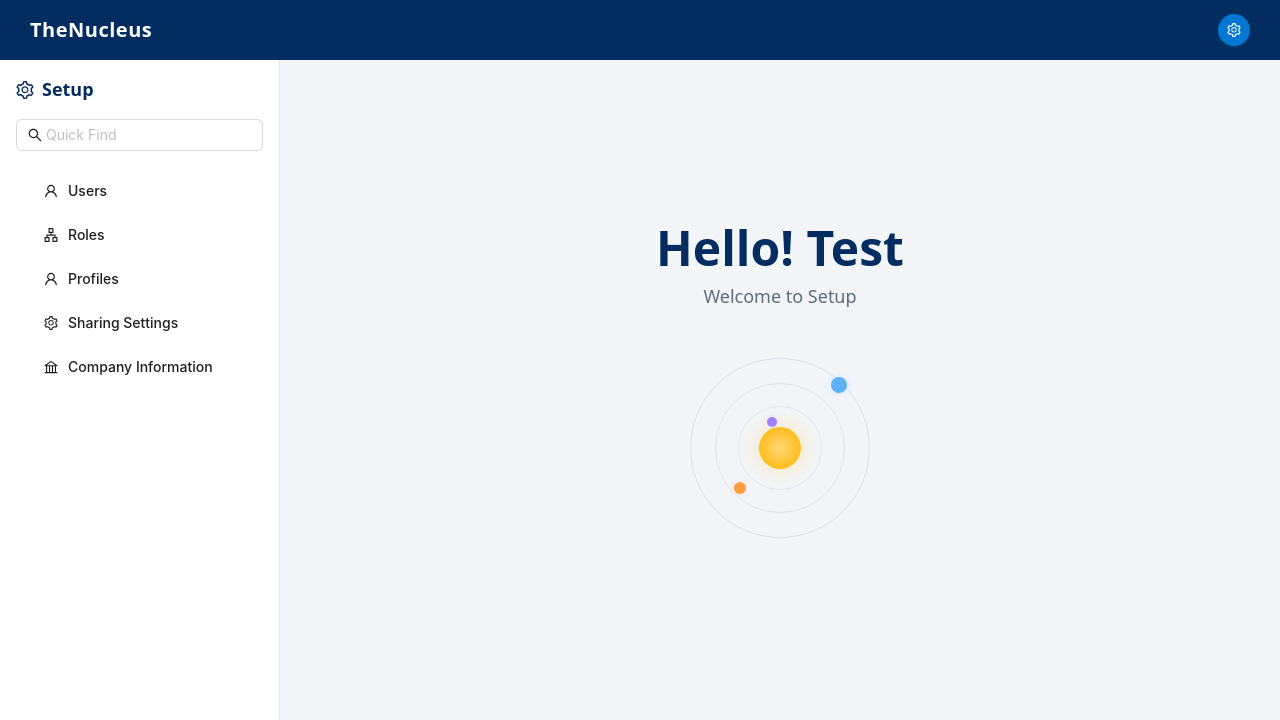
Setup › filters setup sidebar with Quick Find
The width and height of the screenshot is (1280, 720).
Type "Sharing" into the field with placeholder "Quick Find" at (148, 135), box [46,124,251,146]
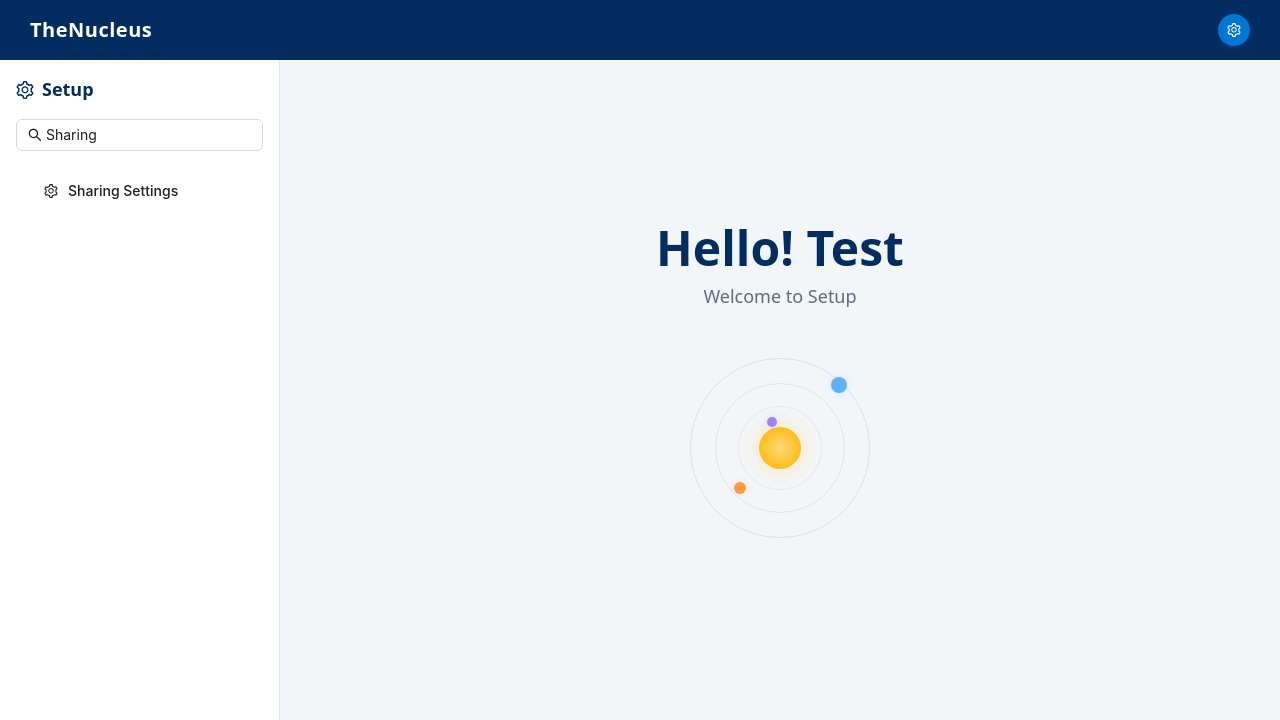
Expected: the text "Sharing Settings" is shown, [68,182,178,199]
Expected: the menu item "Users" is gone
Expected: the menu item "Roles" is gone
